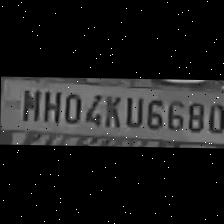0: (60, 89, 82, 124), (204, 100, 222, 134)
4: (82, 90, 104, 127)
6: (143, 94, 163, 130), (163, 96, 183, 132)
8: (183, 98, 205, 133)
H: (39, 86, 61, 124)
K: (100, 92, 120, 128)
M: (18, 86, 41, 122)
U: (121, 92, 143, 128)
